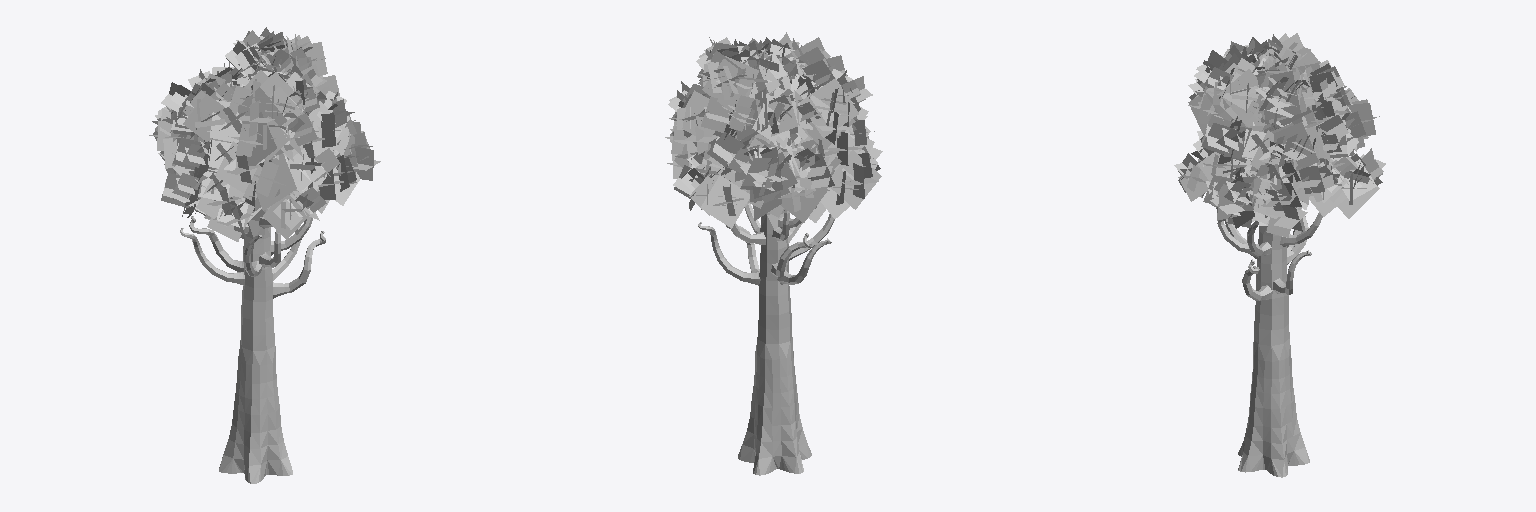
File: TallThick_2.obj
3 views of the same model, side by side, from view 1: azimuth 30°, elevation 25°; view 2: azimuth 150°, elevation 25°; view 3: azimuth 270°, elevation 25° (orthographic).
Visible parts, largest first — view 1: TallThick_2; view 2: TallThick_2; view 3: TallThick_2.
Boxes of the visible parts, x1=… form: TallThick_2: x1=149, y1=27, x2=380, y2=483; TallThick_2: x1=665, y1=32, x2=882, y2=475; TallThick_2: x1=1174, y1=33, x2=1385, y2=477.
Bounding box in the file's own units: 7.86 × 15.18 × 7.07.